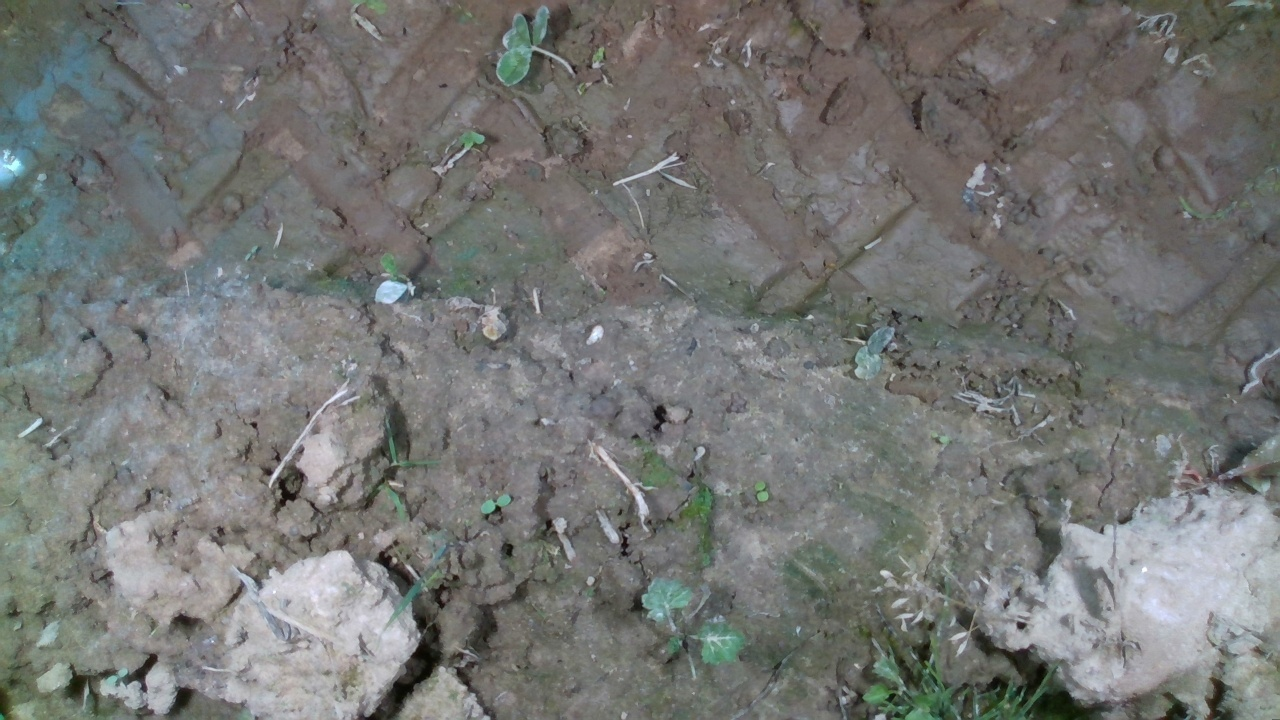weed: (751, 476, 771, 501)
